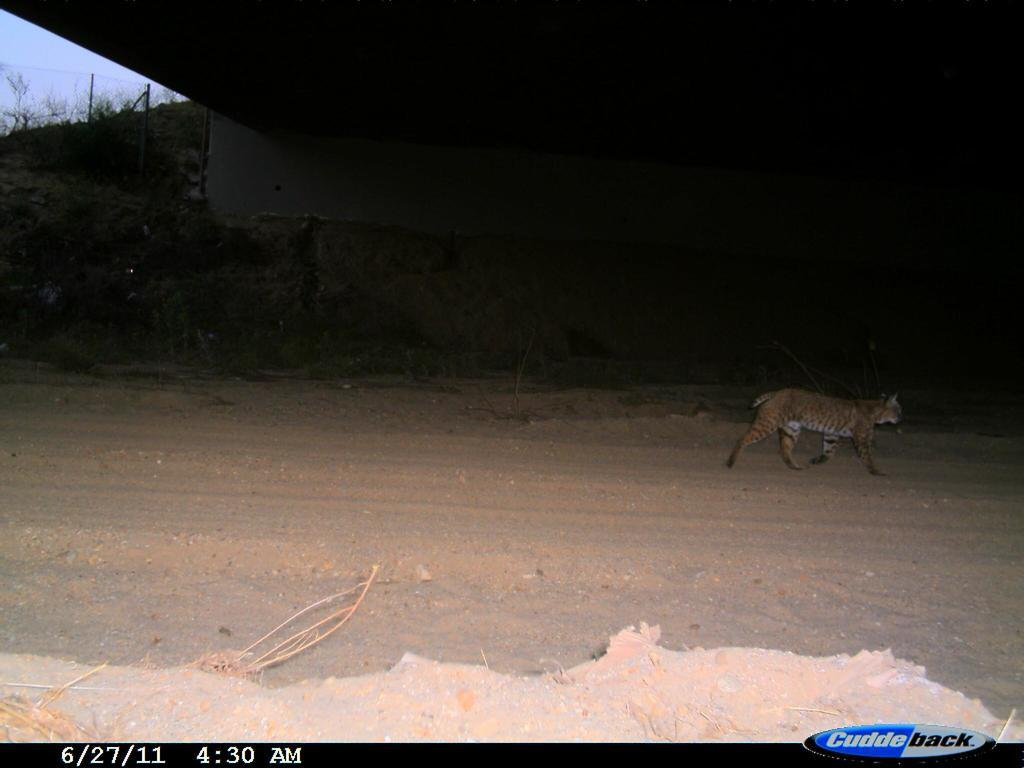bobcat: (719, 368, 921, 493)
